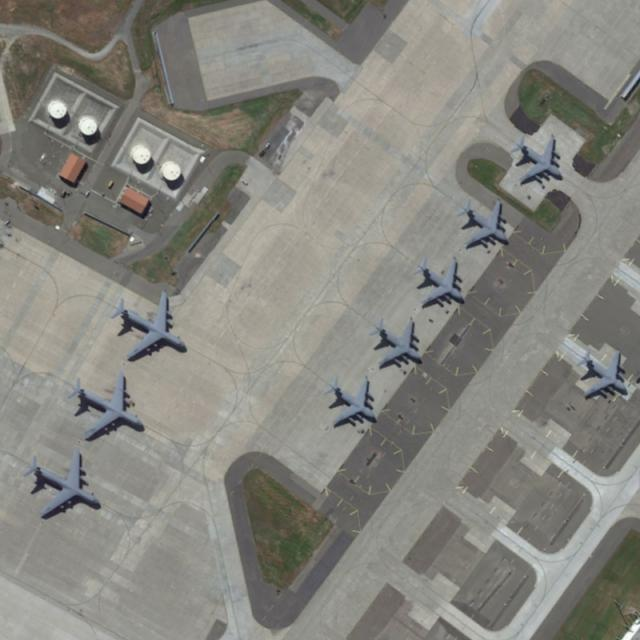fighter jet: (21, 450, 103, 519), (68, 370, 144, 440), (113, 297, 188, 358), (510, 130, 567, 191), (575, 343, 629, 400), (324, 374, 376, 428), (372, 318, 424, 371), (459, 200, 511, 253), (415, 258, 465, 308)
